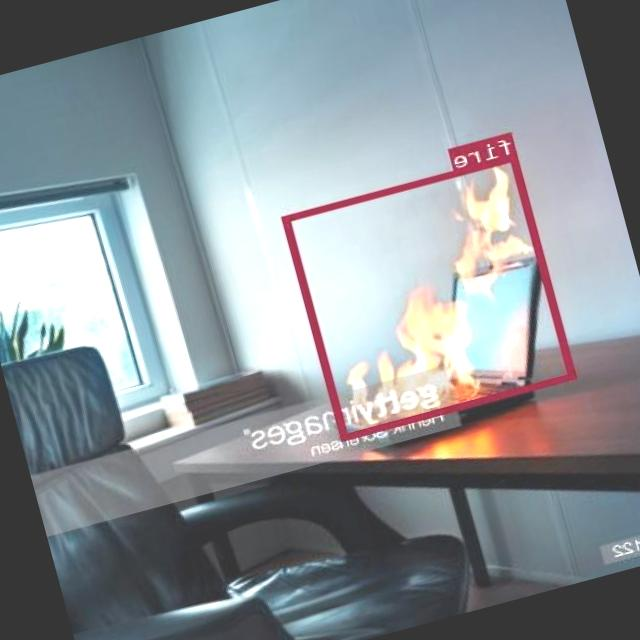fire: (282, 152, 578, 438)
